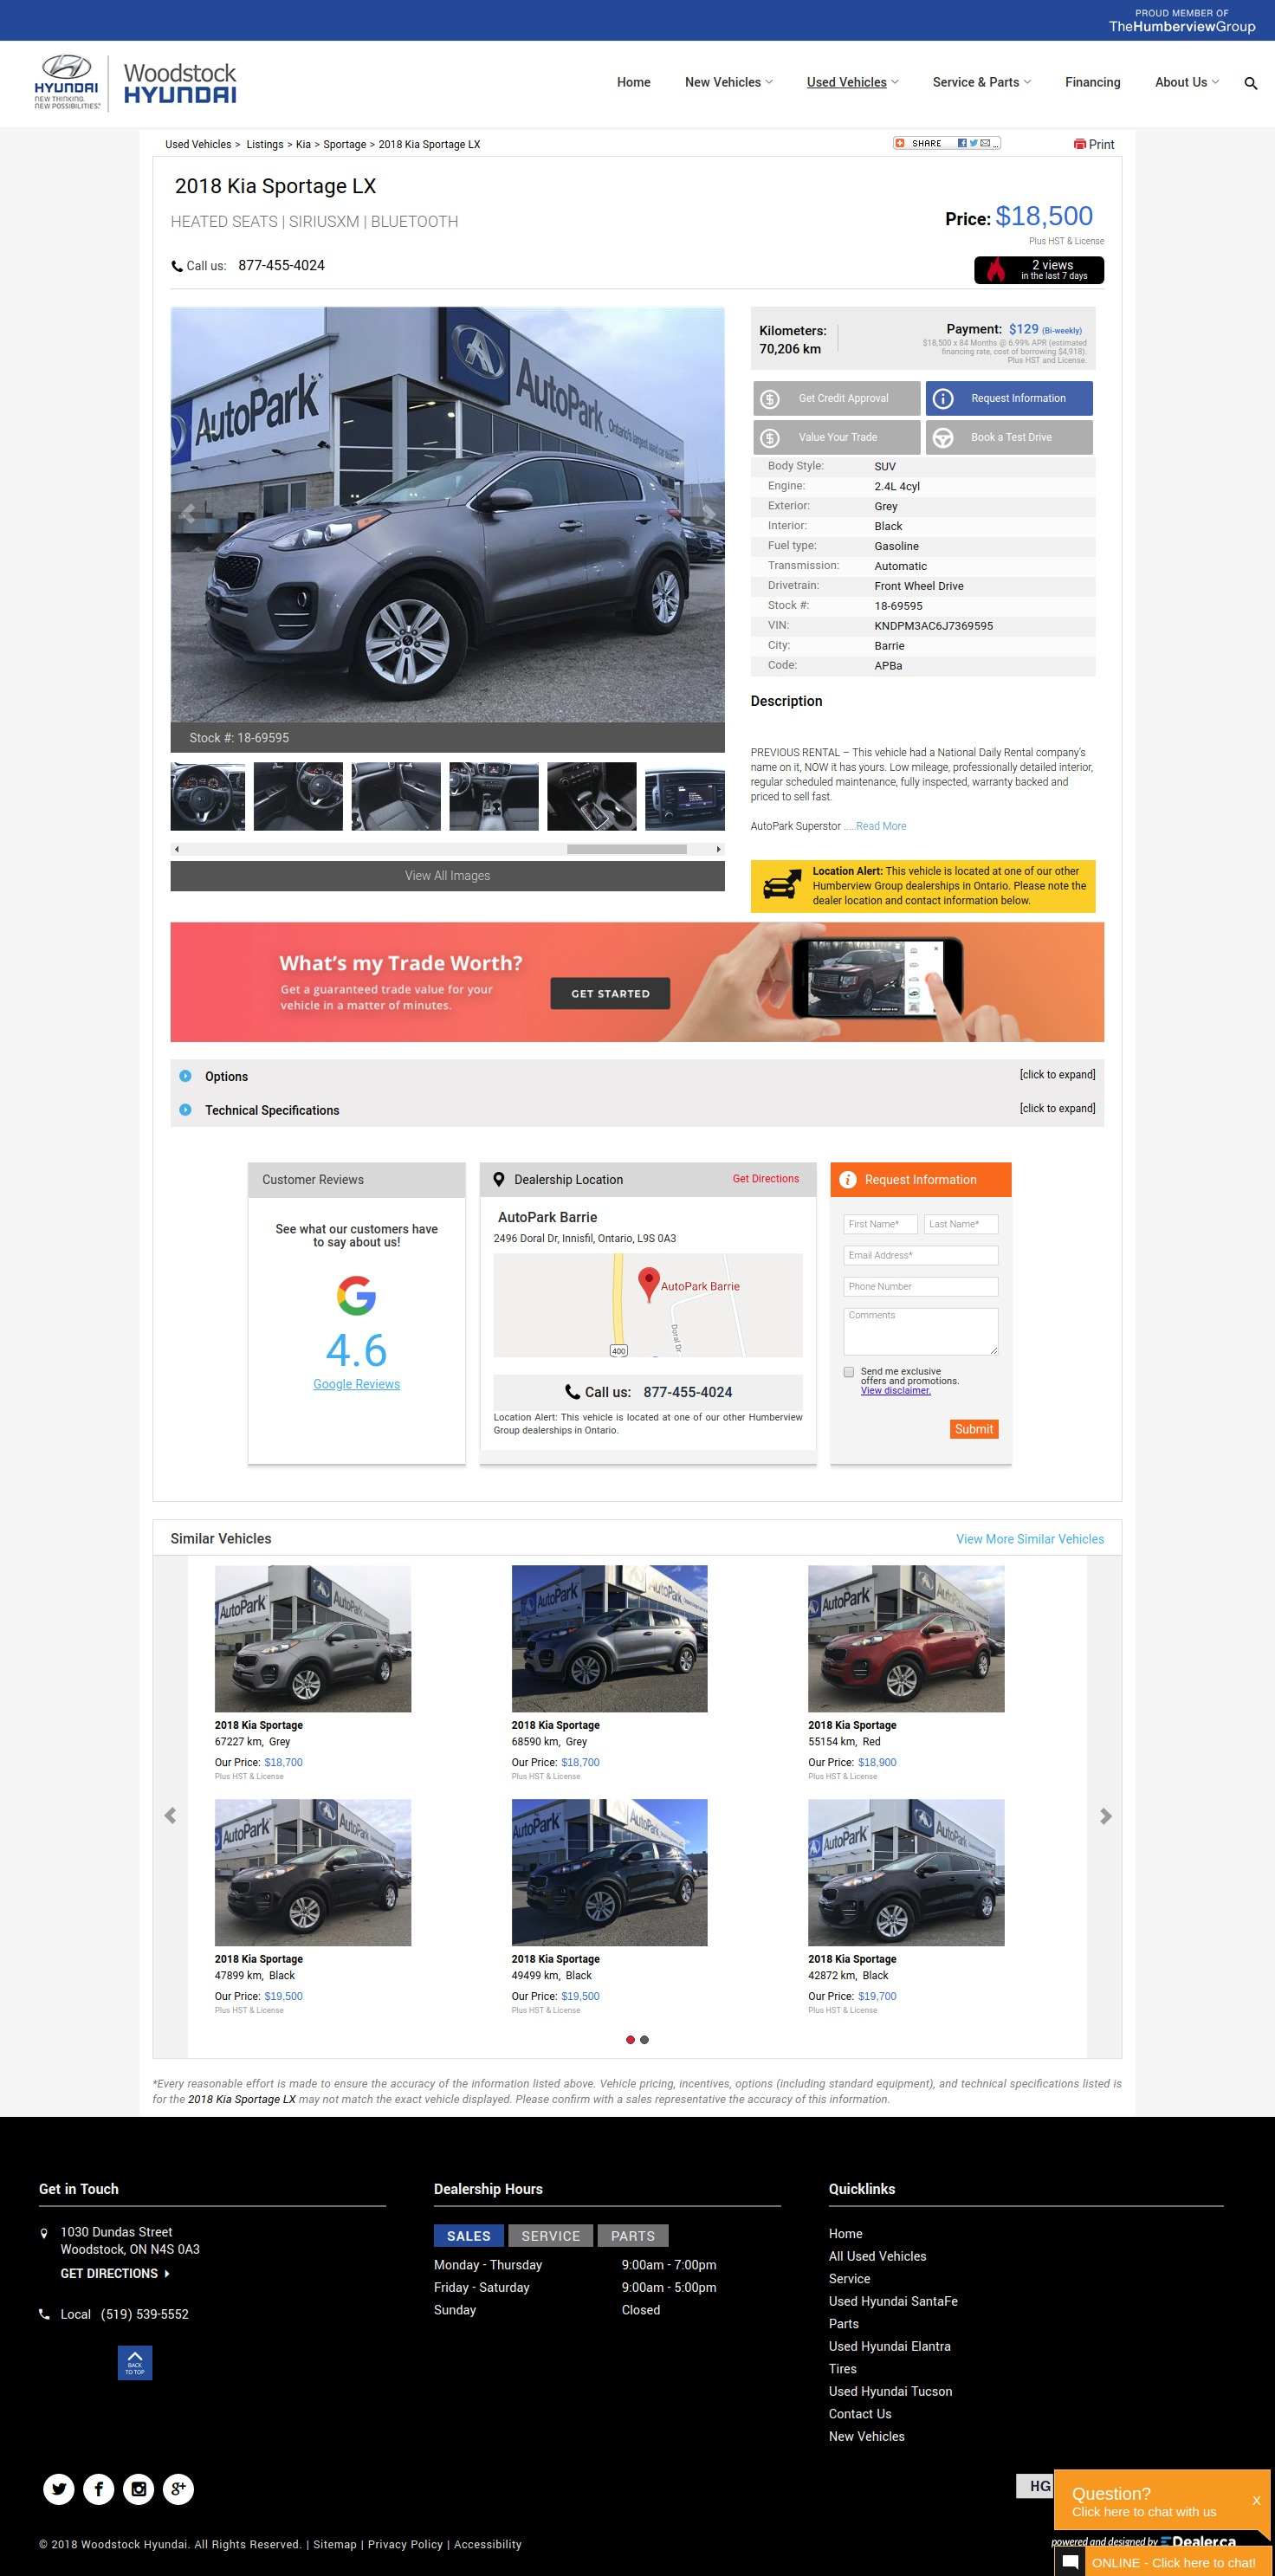car: (716, 846, 721, 853)
